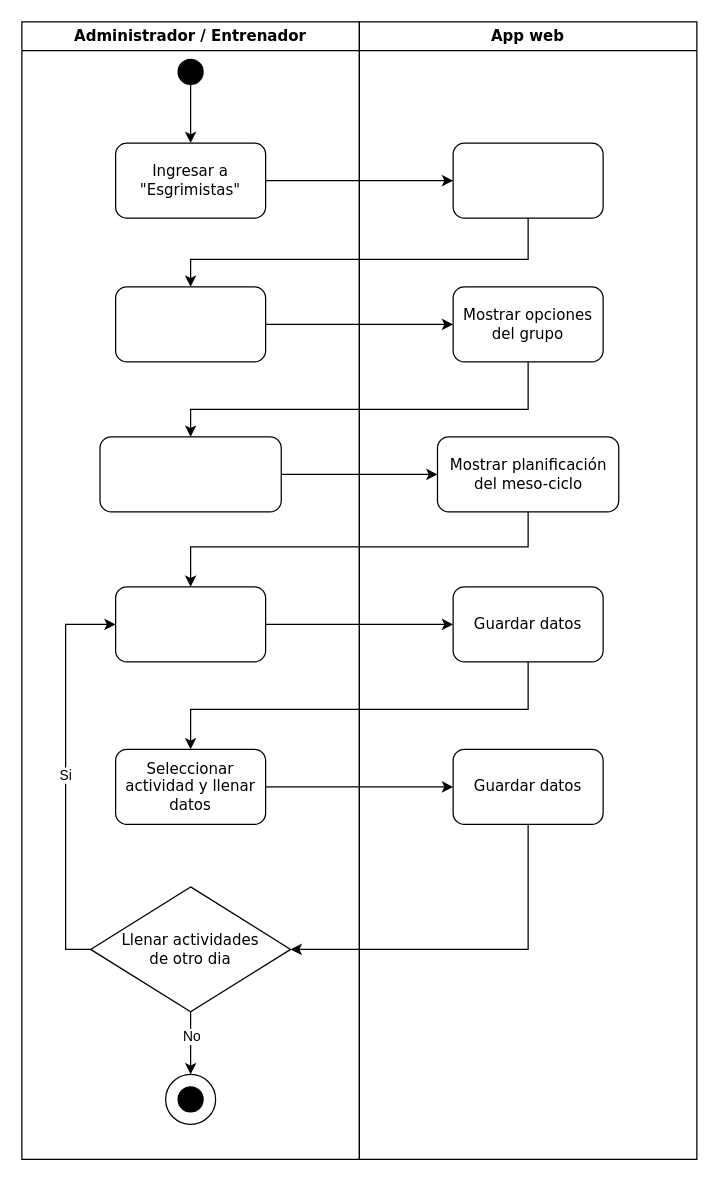
Some shapes in this 719 by 1181 pixel diagram are drawn without their labels. The box of each missing label's shape, as (x1, y1, x2, y2) in pixels:
Mostrar opciones de esgrimistas: (452, 142, 603, 218)
Seleccionar "Grupos" y escoger el grupo deseado: (114, 286, 266, 362)
Seleccionar "Meso-ciclos" y escoger el meso-ciclo deseado: (99, 436, 281, 512)
Seleccionar actividad del dia y llenar datos: (114, 586, 266, 662)
